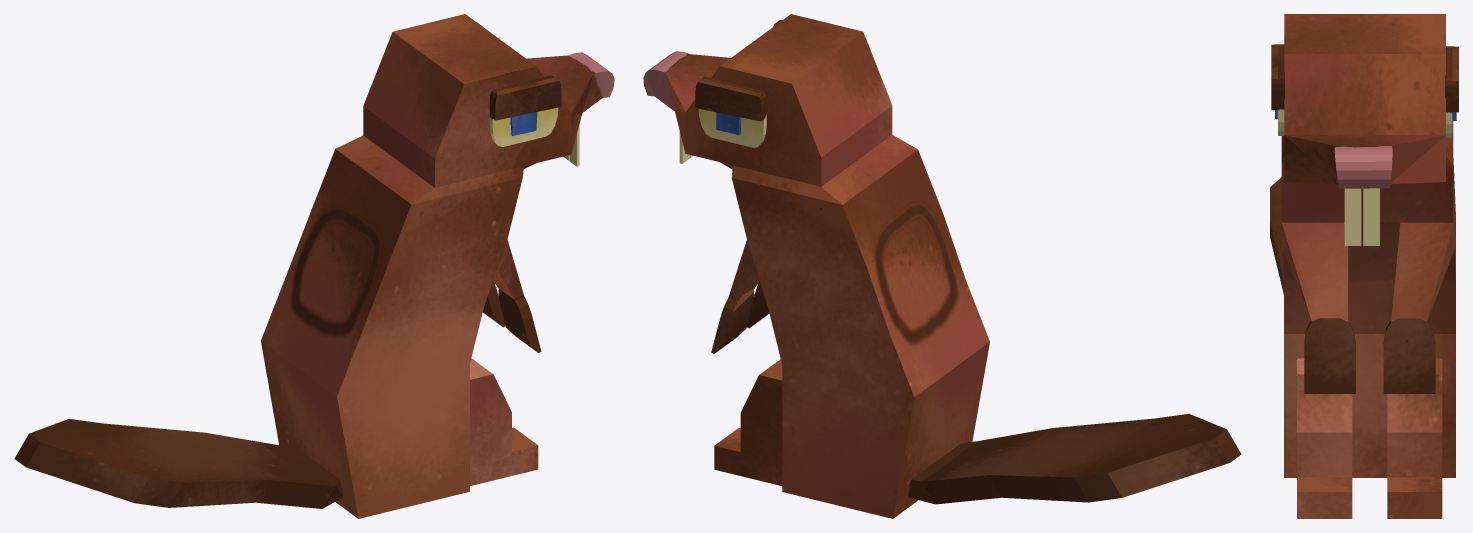
Rendered from beaverTwo.glb.
3 views of the same model, side by side, from view 1: azimuth 30°, elevation 25°; view 2: azimuth 150°, elevation 25°; view 3: azimuth 270°, elevation 25° (orthographic). The views are drawn at different scales.
Visible parts, largest first — view 1: Cube; view 2: Cube; view 3: Cube.
Part boxes in pixels (x1=…): Cube: x1=14, y1=14, x2=614, y2=518; Cube: x1=643, y1=14, x2=1241, y2=518; Cube: x1=1270, y1=14, x2=1458, y2=518.
Size of the model in its own units: 8.84 by 5.93 by 2.2.
1 material, 1 textured.
